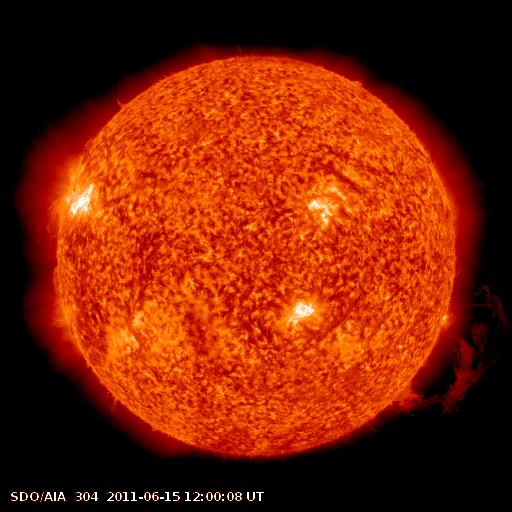prominence: (381, 279, 511, 422), (42, 261, 72, 299)
